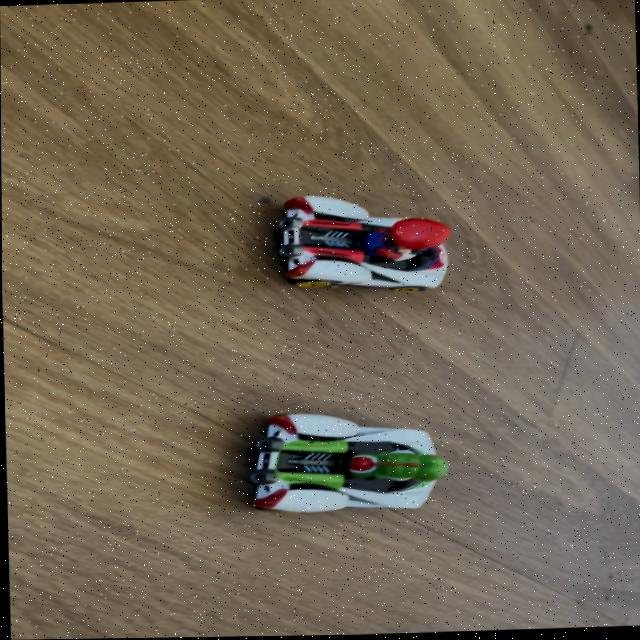mario: (254, 189, 470, 307)
yoshi: (229, 396, 464, 518)
